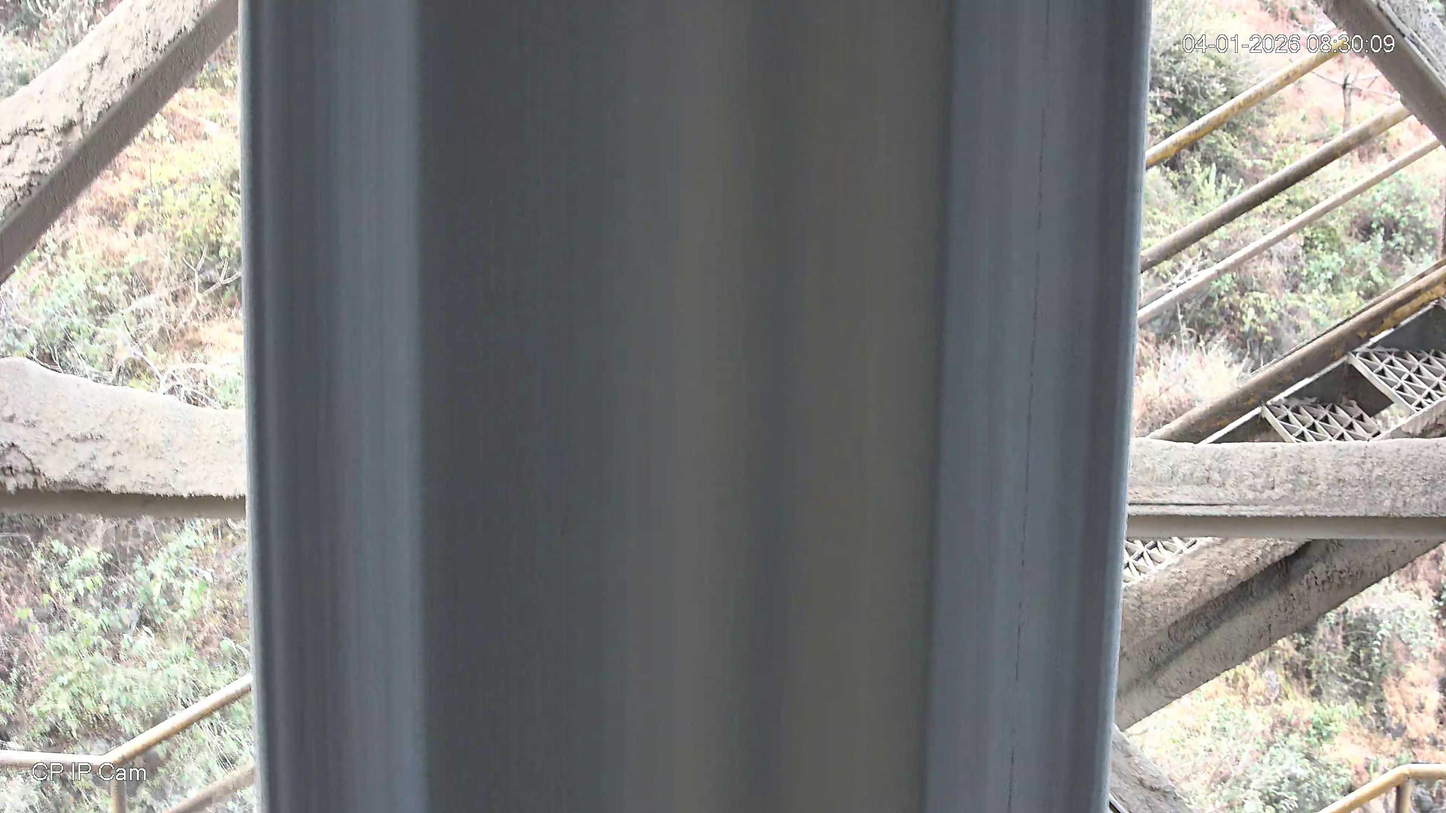belt_roi: (238, 0, 1152, 813)
